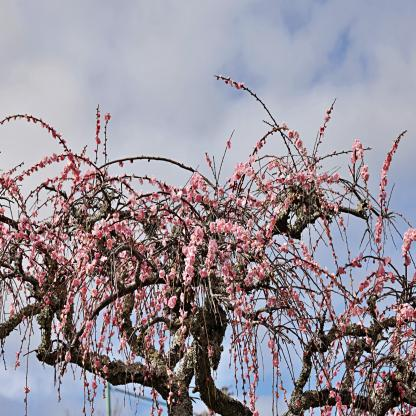Ume: (0, 73, 416, 416)
